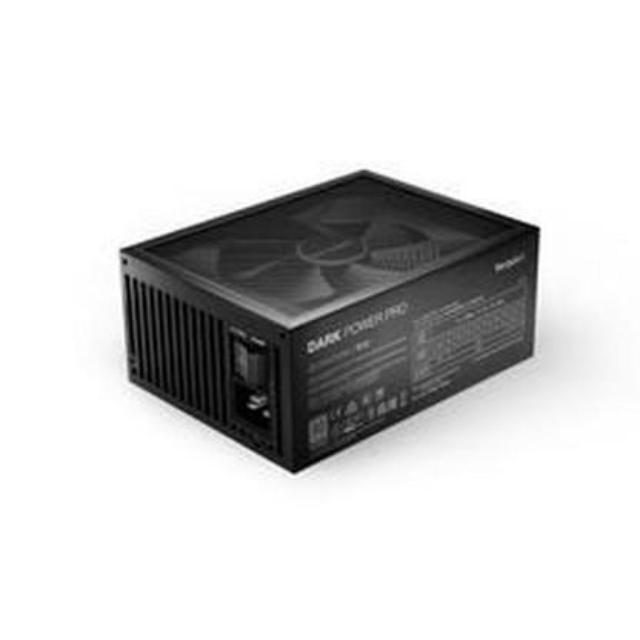PSU: (114, 163, 552, 485)
